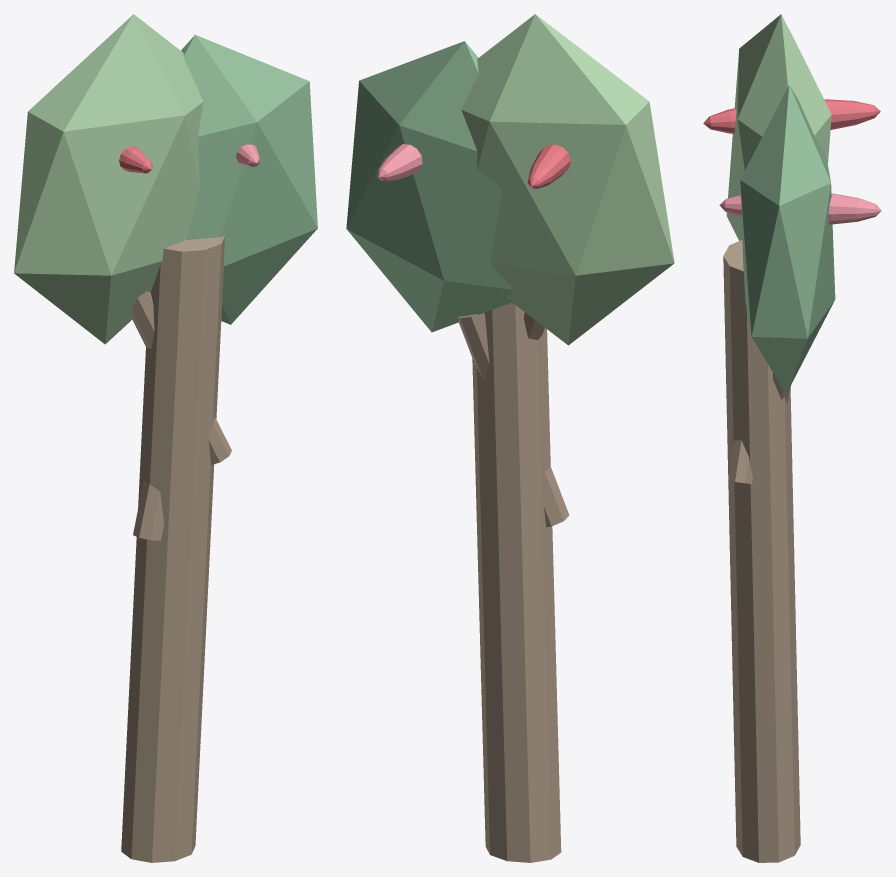
Rendered from TREE_BOTTLEBRUSH_001_LOD_GAMEPLAY.glb.
3 renders of one model, left to right at view 1: azimuth 30°, elevation 25°; view 2: azimuth 150°, elevation 25°; view 3: azimuth 270°, elevation 25°, orthographic. The views are drawn at different scales.
Visible parts, largest first — view 1: TREE_BOTTLEBRUSH_001_TRUNK_MAIN_001_LOD_GAMEPLAY, TREE_BOTTLEBRUSH_001_LEAF_CLUSTER_MAIN_001_LOD_GAMEPLAY, TREE_BOTTLEBRUSH_001_LEAF_CLUSTER_MAIN_002_LOD_GAMEPLAY, TREE_BOTTLEBRUSH_001_BRANCH_SECONDARY_001_LOD_GAMEPLAY, TREE_BOTTLEBRUSH_001_BRANCH_PRIMARY_001_LOD_GAMEPLAY, TREE_BOTTLEBRUSH_001_FLOWER_CLUSTER_MAIN_001_LOD_GAMEPLAY; view 2: TREE_BOTTLEBRUSH_001_LEAF_CLUSTER_MAIN_001_LOD_GAMEPLAY, TREE_BOTTLEBRUSH_001_TRUNK_MAIN_001_LOD_GAMEPLAY, TREE_BOTTLEBRUSH_001_LEAF_CLUSTER_MAIN_002_LOD_GAMEPLAY, TREE_BOTTLEBRUSH_001_BRANCH_PRIMARY_001_LOD_GAMEPLAY, TREE_BOTTLEBRUSH_001_FLOWER_CLUSTER_MAIN_001_LOD_GAMEPLAY, TREE_BOTTLEBRUSH_001_FLOWER_CLUSTER_MAIN_002_LOD_GAMEPLAY; view 3: TREE_BOTTLEBRUSH_001_TRUNK_MAIN_001_LOD_GAMEPLAY, TREE_BOTTLEBRUSH_001_LEAF_CLUSTER_MAIN_002_LOD_GAMEPLAY, TREE_BOTTLEBRUSH_001_LEAF_CLUSTER_MAIN_001_LOD_GAMEPLAY, TREE_BOTTLEBRUSH_001_FLOWER_CLUSTER_MAIN_001_LOD_GAMEPLAY, TREE_BOTTLEBRUSH_001_FLOWER_CLUSTER_MAIN_002_LOD_GAMEPLAY, TREE_BOTTLEBRUSH_001_BRANCH_SECONDARY_001_LOD_GAMEPLAY.
Part boxes in pixels (x1,y1,x2,y2): TREE_BOTTLEBRUSH_001_TRUNK_MAIN_001_LOD_GAMEPLAY: (121, 236, 224, 862); TREE_BOTTLEBRUSH_001_LEAF_CLUSTER_MAIN_001_LOD_GAMEPLAY: (14, 14, 203, 344); TREE_BOTTLEBRUSH_001_LEAF_CLUSTER_MAIN_002_LOD_GAMEPLAY: (181, 35, 317, 324); TREE_BOTTLEBRUSH_001_BRANCH_SECONDARY_001_LOD_GAMEPLAY: (131, 291, 231, 464); TREE_BOTTLEBRUSH_001_BRANCH_PRIMARY_001_LOD_GAMEPLAY: (133, 481, 164, 540); TREE_BOTTLEBRUSH_001_FLOWER_CLUSTER_MAIN_001_LOD_GAMEPLAY: (119, 146, 152, 173); TREE_BOTTLEBRUSH_001_LEAF_CLUSTER_MAIN_001_LOD_GAMEPLAY: (461, 14, 674, 345); TREE_BOTTLEBRUSH_001_TRUNK_MAIN_001_LOD_GAMEPLAY: (472, 302, 561, 862); TREE_BOTTLEBRUSH_001_LEAF_CLUSTER_MAIN_002_LOD_GAMEPLAY: (346, 41, 514, 332); TREE_BOTTLEBRUSH_001_BRANCH_PRIMARY_001_LOD_GAMEPLAY: (458, 313, 569, 527); TREE_BOTTLEBRUSH_001_FLOWER_CLUSTER_MAIN_001_LOD_GAMEPLAY: (527, 144, 570, 189); TREE_BOTTLEBRUSH_001_FLOWER_CLUSTER_MAIN_002_LOD_GAMEPLAY: (377, 144, 422, 180); TREE_BOTTLEBRUSH_001_TRUNK_MAIN_001_LOD_GAMEPLAY: (723, 240, 800, 862); TREE_BOTTLEBRUSH_001_LEAF_CLUSTER_MAIN_002_LOD_GAMEPLAY: (740, 85, 835, 393); TREE_BOTTLEBRUSH_001_LEAF_CLUSTER_MAIN_001_LOD_GAMEPLAY: (726, 14, 831, 240); TREE_BOTTLEBRUSH_001_FLOWER_CLUSTER_MAIN_001_LOD_GAMEPLAY: (703, 99, 880, 133); TREE_BOTTLEBRUSH_001_FLOWER_CLUSTER_MAIN_002_LOD_GAMEPLAY: (719, 193, 881, 224); TREE_BOTTLEBRUSH_001_BRANCH_SECONDARY_001_LOD_GAMEPLAY: (728, 440, 752, 483).
Bounding box in the file's own units: 1.61 × 4.24 × 0.8334.
